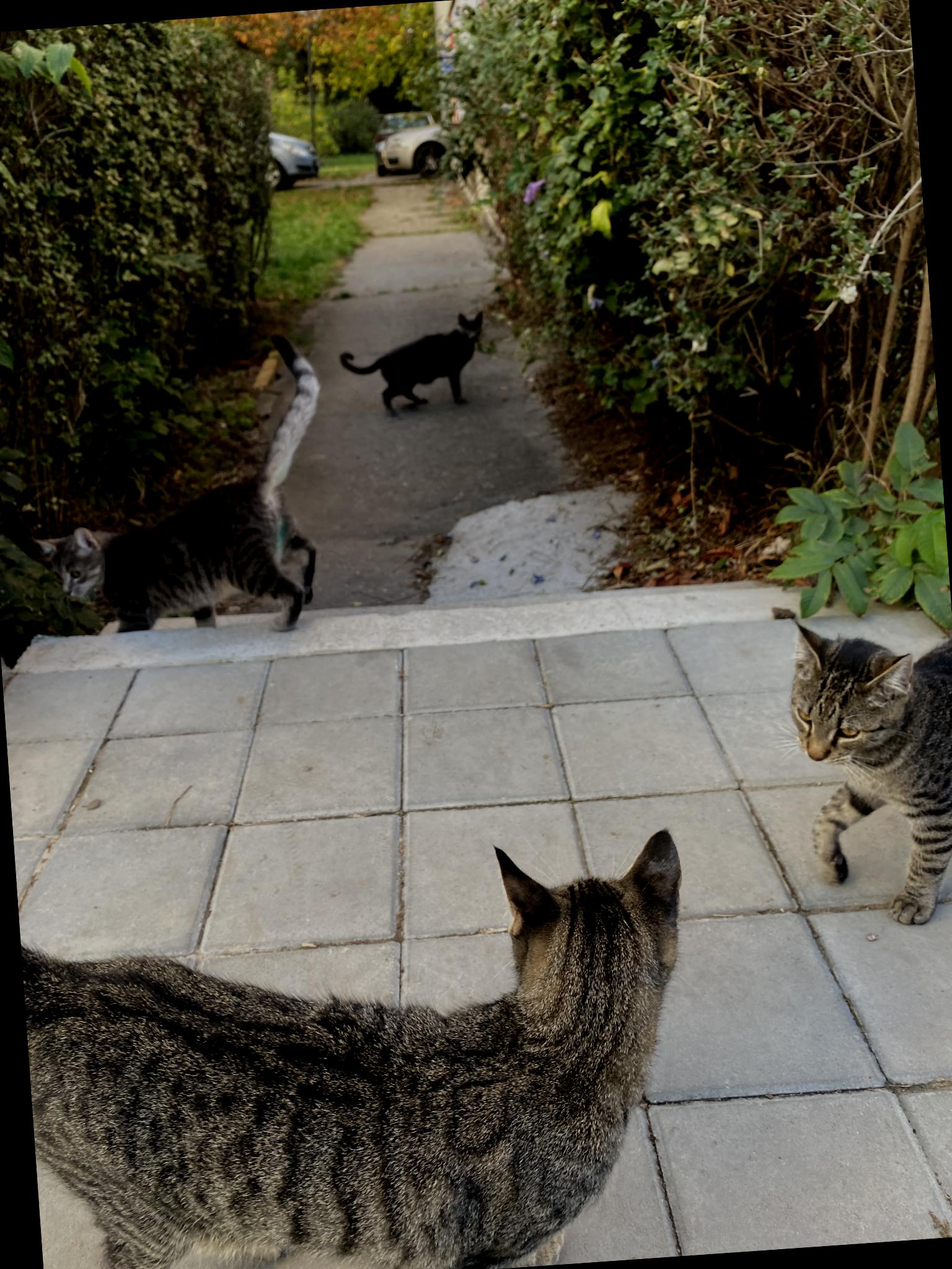macka: (15, 827, 710, 1269), (18, 331, 337, 649), (783, 610, 952, 931), (336, 309, 490, 420)
